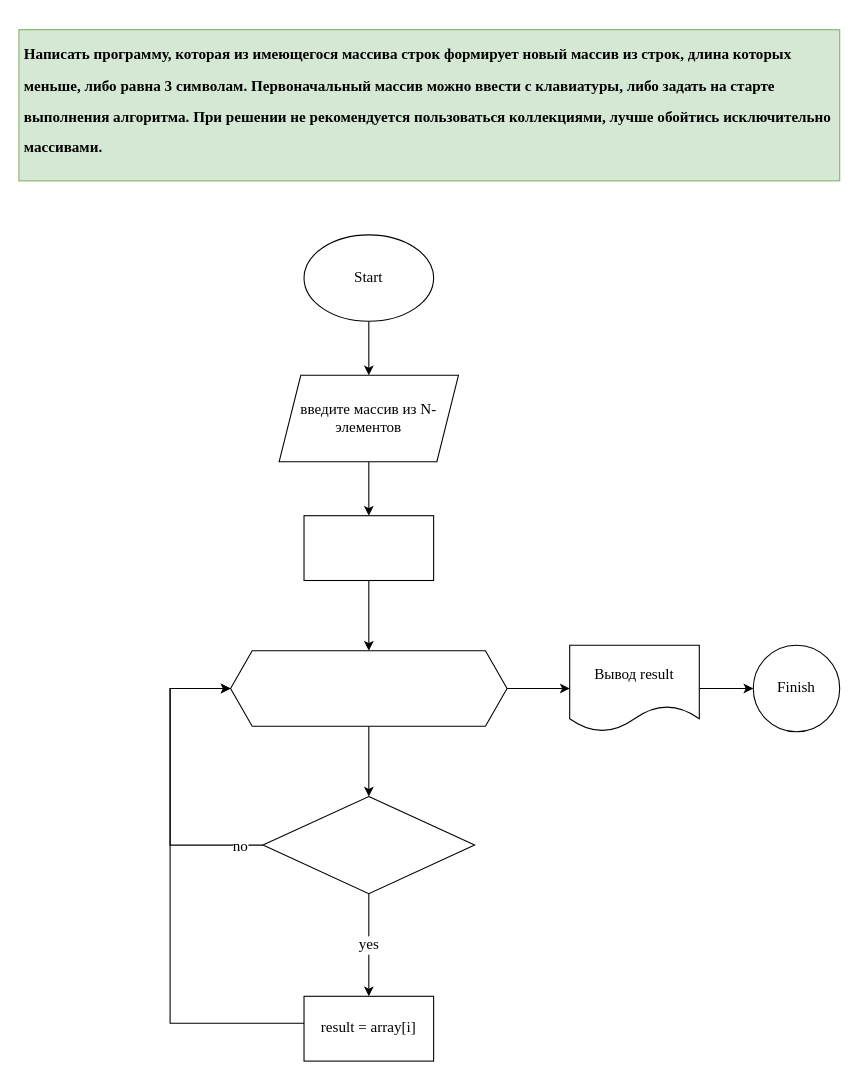
Image size: 859x1080. Some labels were removed from this diagram. The shapes that lost their labels are listed below. From the top down, each one's box as (x1, y1, x2, y2) in pixels, then its label:
(303, 515, 434, 580): i = 0;
(230, 650, 507, 726): int i = 0; i < array.GetLength; i++;
(262, 795, 475, 894): length(array[i]) > 3
